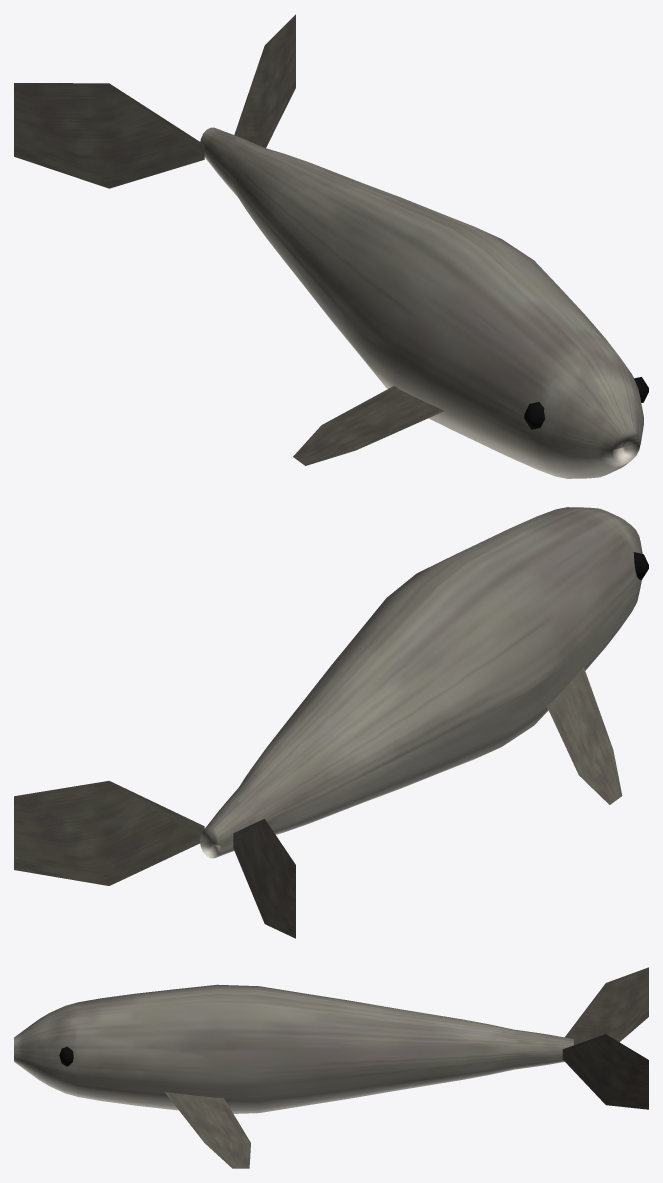
Rendered from harbor_seal.glb.
3 views of the same model, one above another, from view 1: azimuth 30°, elevation 25°; view 2: azimuth 150°, elevation 25°; view 3: azimuth 270°, elevation 25° (orthographic). The views are drawn at different scales.
Size of the model in its own units: 0.6606 by 0.3721 by 1.7.
Materials: 1 (1 with a texture image).
